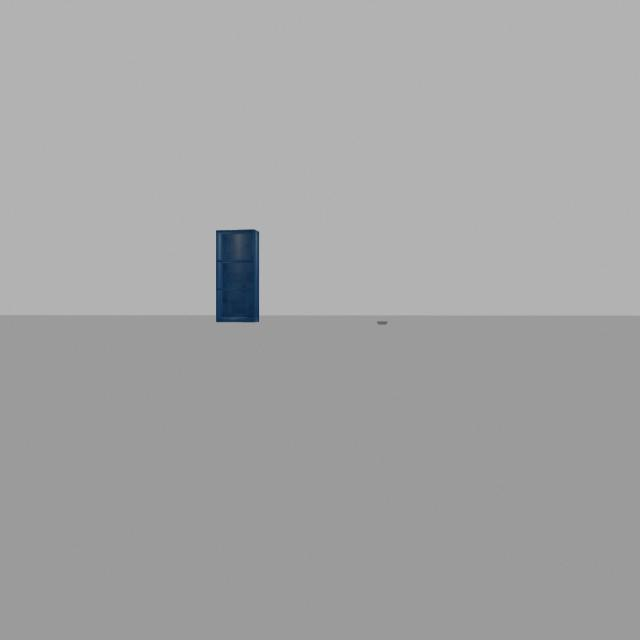bowl: (372, 314, 392, 331)
shelf: (209, 221, 265, 329)
